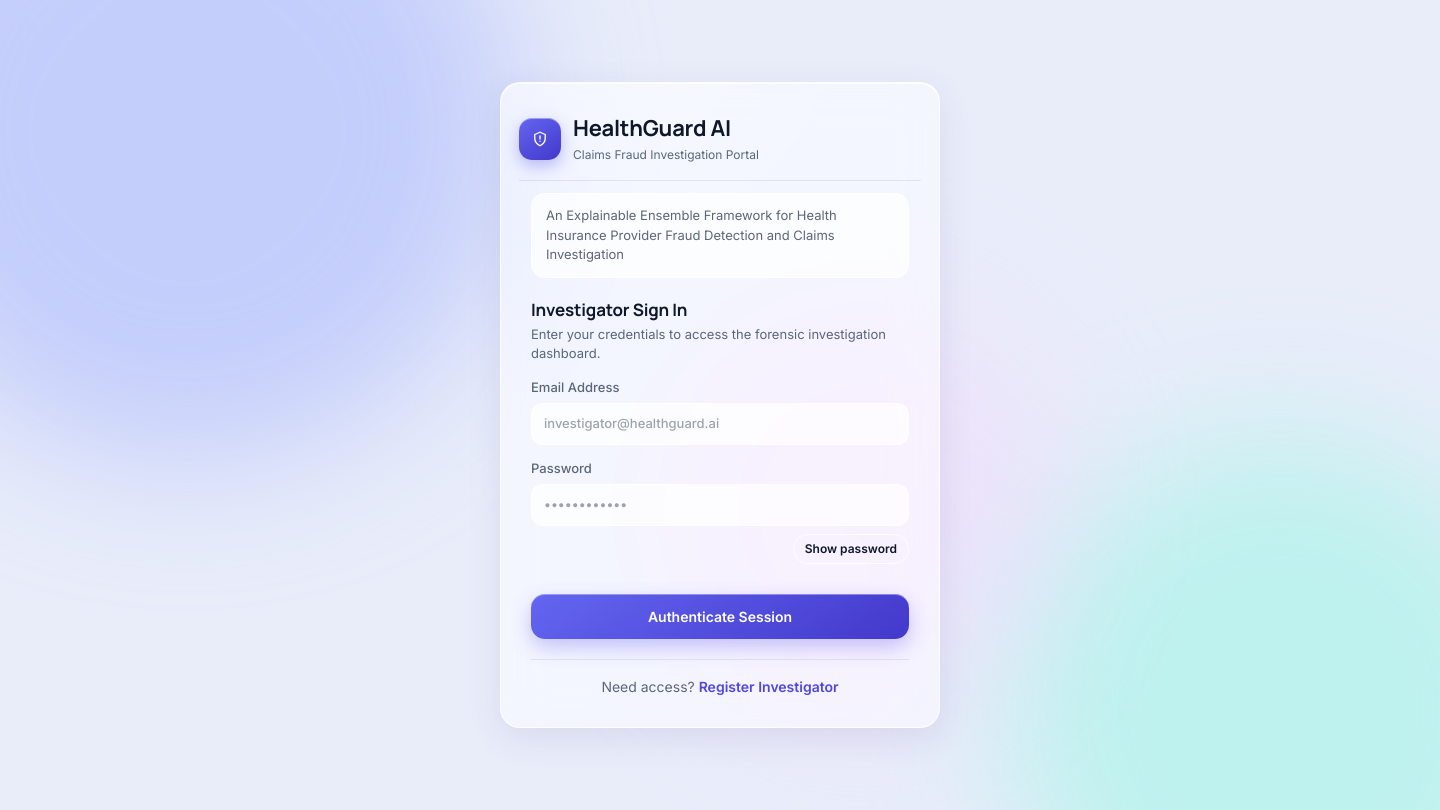
Test: HealthGuard AI Frontend Integration Tests › toggles between Sign In and Investigator Registration form
Click the button "Register Investigator" at (769, 686), box [699,676,839,697]
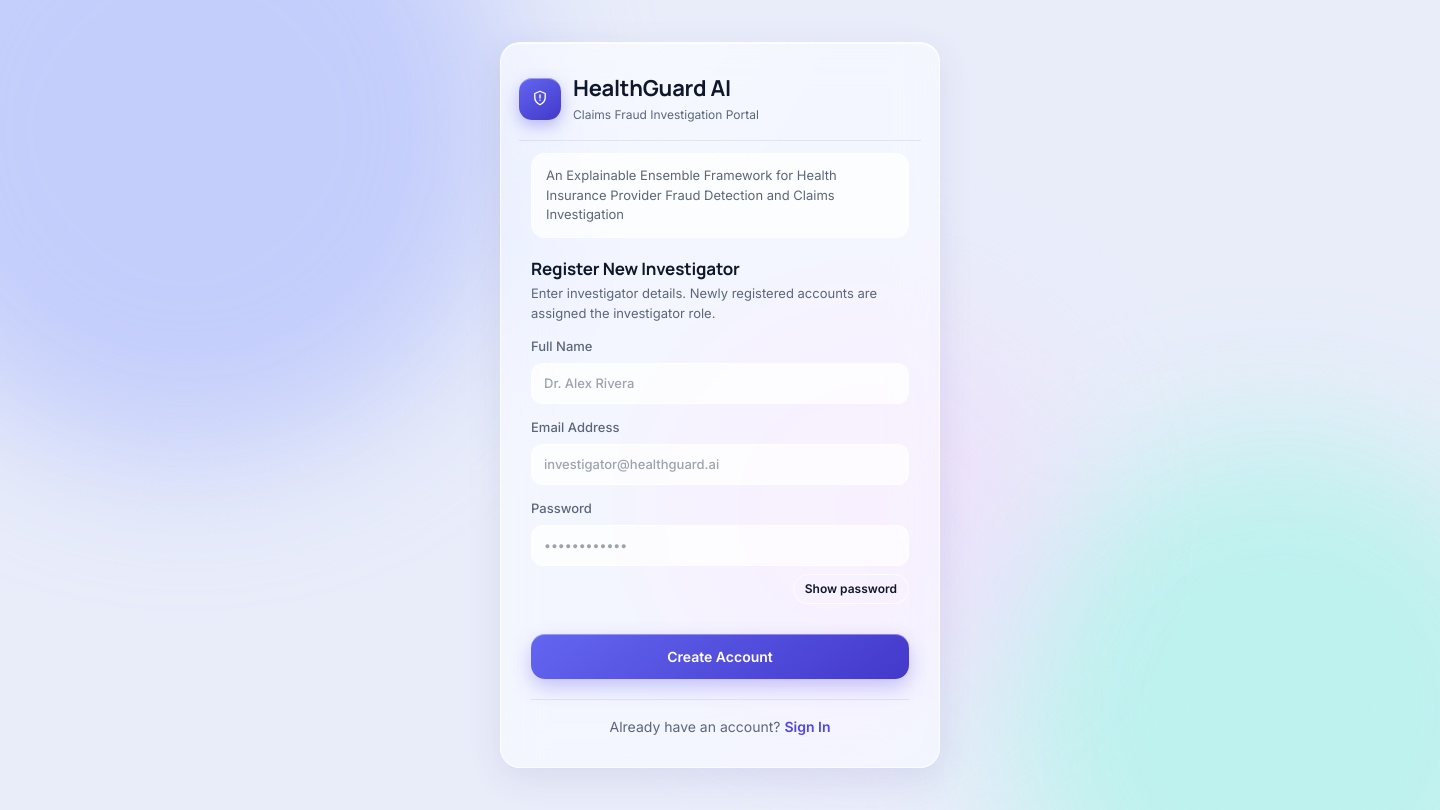
Now the button "Create Account" is shown, box [531,634,909,679]
Now the field with placeholder "Dr. Alex Rivera" is shown, box [531,363,909,404]
Click the button "Sign In" at (807, 727), box [784,716,830,737]
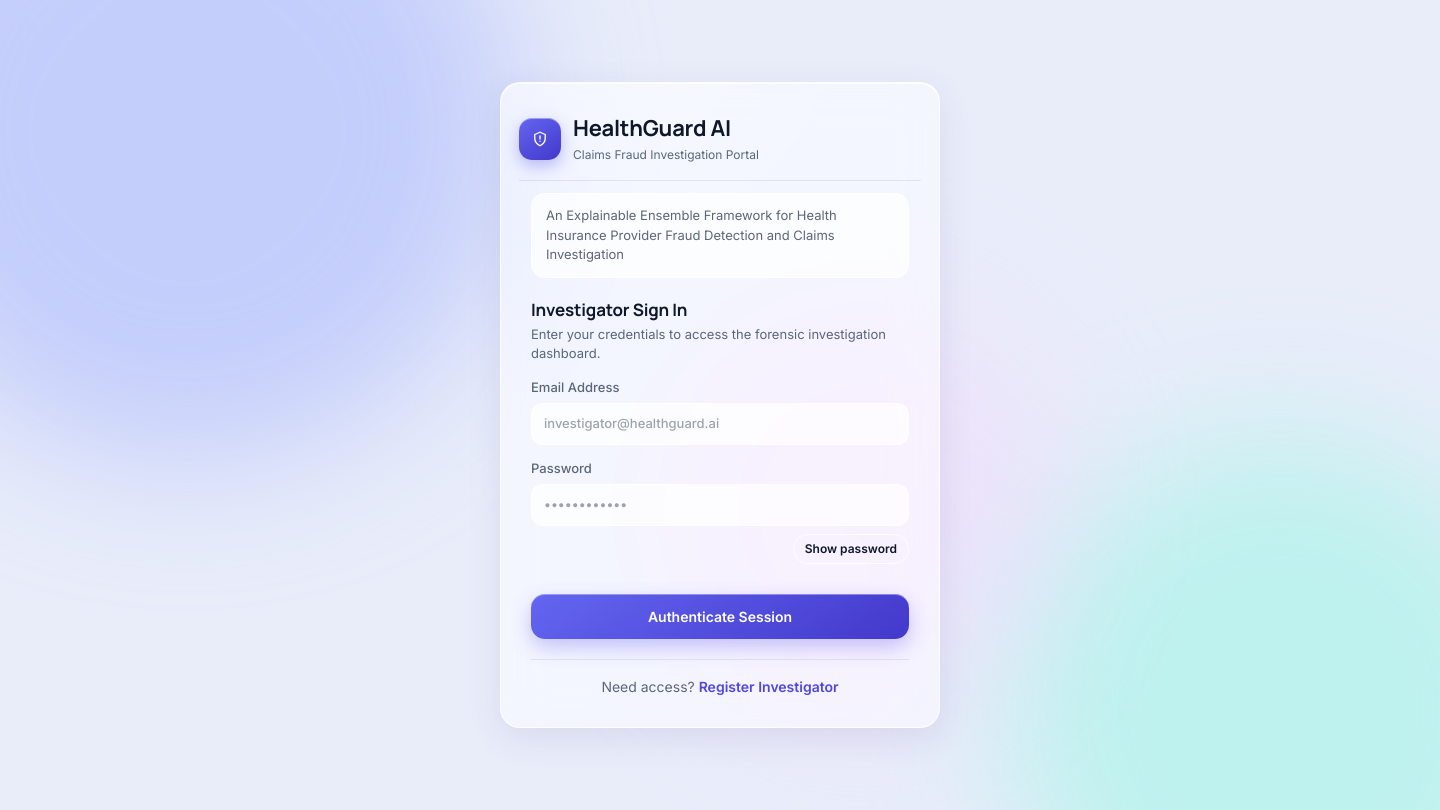
Now the button "Authenticate Session" is shown, box [531,594,909,639]
